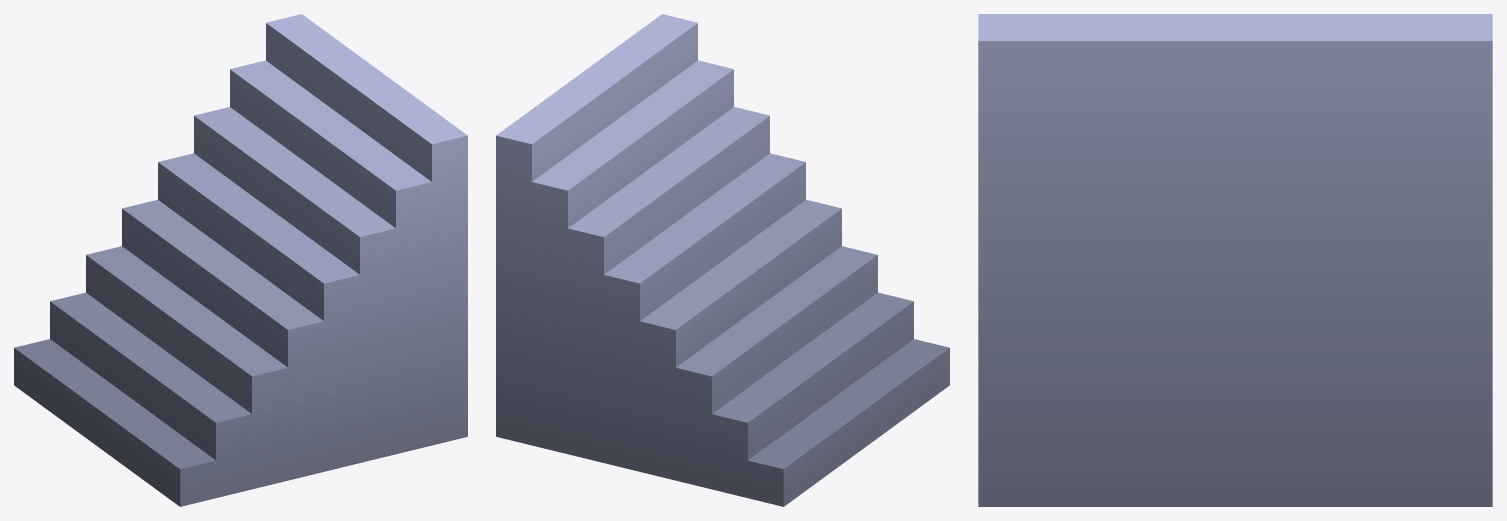
Rendered from stairs-small.fbx.
The picture shows the model from 3 angles, left to right: view 1: azimuth 30°, elevation 25°; view 2: azimuth 150°, elevation 25°; view 3: azimuth 270°, elevation 25°; orthographic projection. The views are drawn at different scales.
Parts seen in each view (by area): view 1: stairs-small; view 2: stairs-small; view 3: stairs-small.
Boxes of the visible parts, x1,y1,x2,y2 form: stairs-small: (14,14,467,506); stairs-small: (496,14,949,506); stairs-small: (978,14,1492,506).
Bounding box in the file's own units: 100 × 100 × 100.
